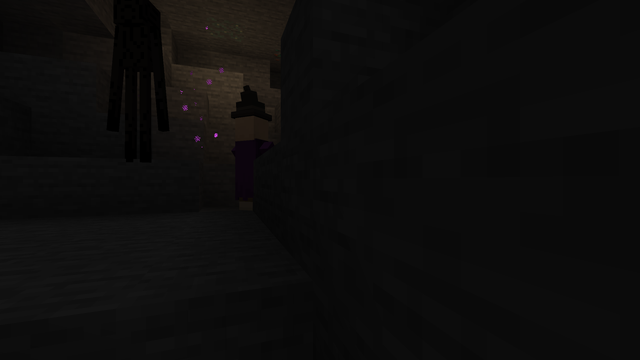endermens: (111, 0, 161, 160)
sorcieres: (236, 110, 268, 211)
